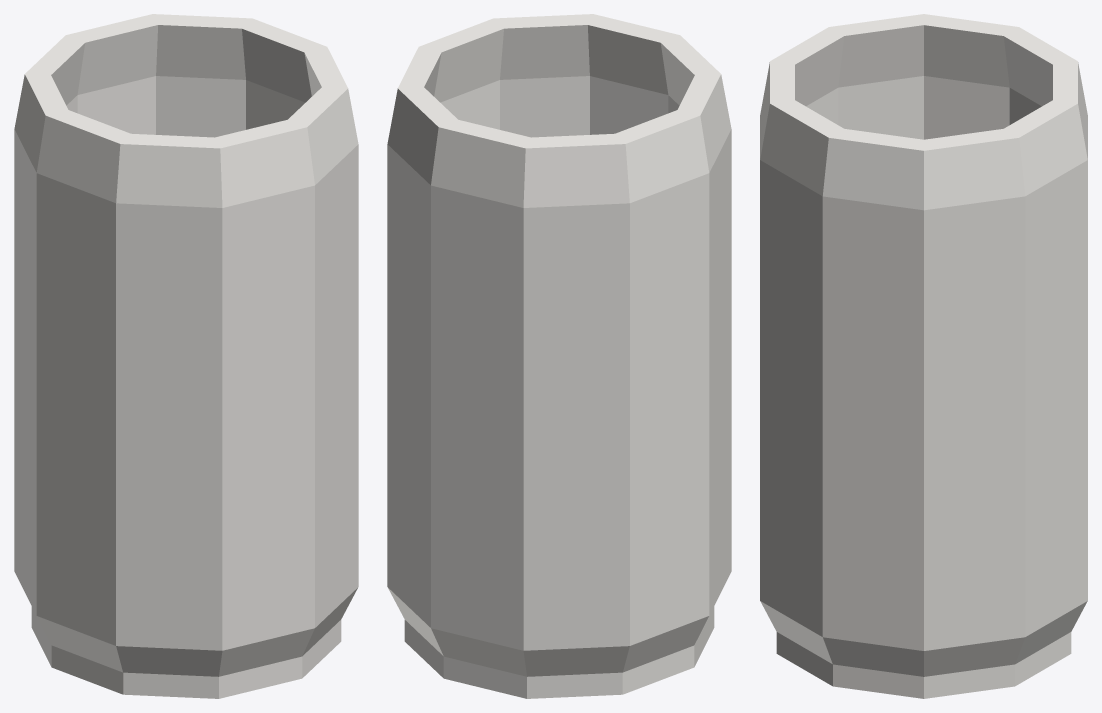
The model's file is SM_LPI_Decor_Vase_01.fbx.
3 views of the same model, side by side, from view 1: azimuth 30°, elevation 25°; view 2: azimuth 150°, elevation 25°; view 3: azimuth 270°, elevation 25° (orthographic).
Visible parts, largest first — view 1: SM_LPI_Decor_Vase_01; view 2: SM_LPI_Decor_Vase_01; view 3: SM_LPI_Decor_Vase_01.
Part boxes in pixels (x1=…): SM_LPI_Decor_Vase_01: x1=14, y1=14, x2=358, y2=698; SM_LPI_Decor_Vase_01: x1=387, y1=14, x2=731, y2=698; SM_LPI_Decor_Vase_01: x1=760, y1=14, x2=1087, y2=698.
Size of the model in its own units: 0.17 by 0.3 by 0.1617.
